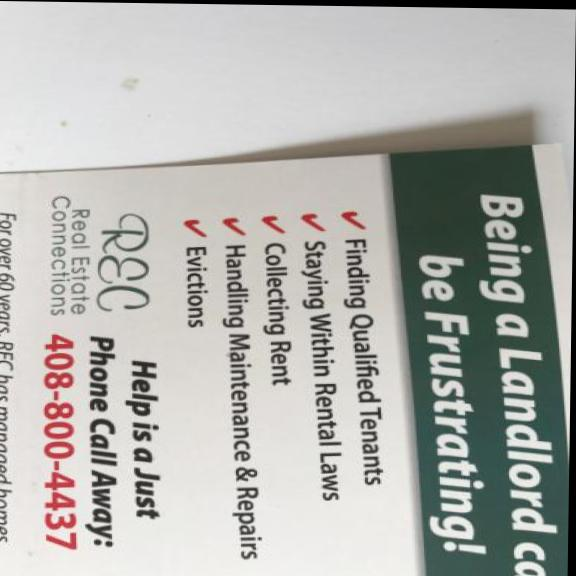Kertas: (0, 127, 574, 576)
